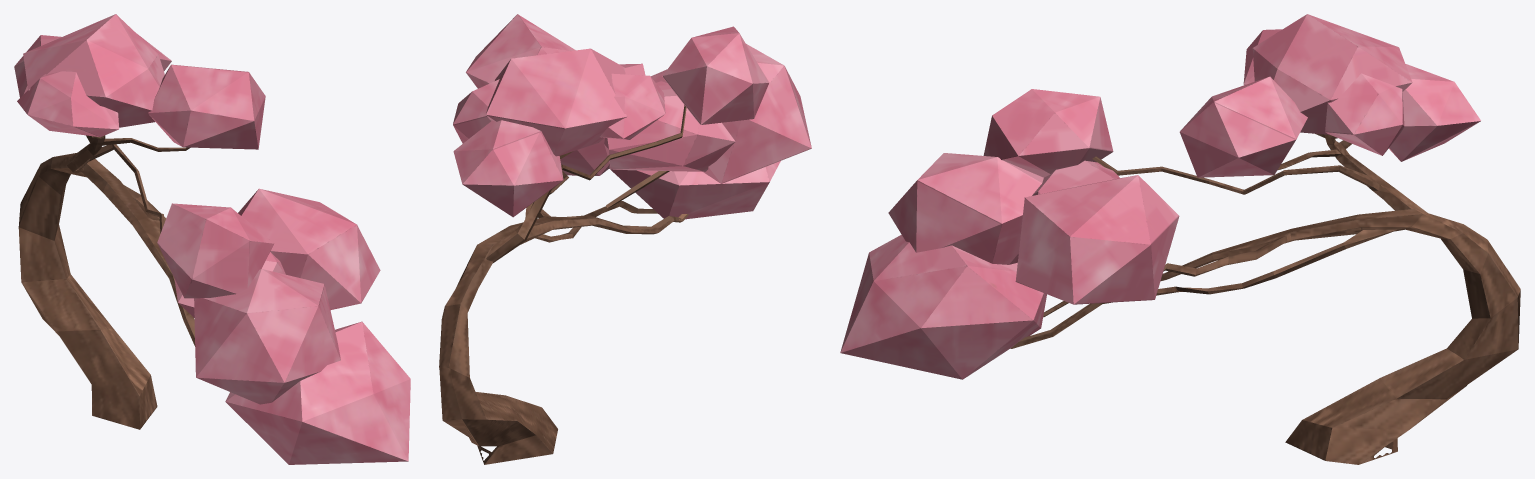
Rendered from tree_sakura_fbx.fbx.
3 views of the same model, side by side, from view 1: azimuth 30°, elevation 25°; view 2: azimuth 150°, elevation 25°; view 3: azimuth 270°, elevation 25° (orthographic). The views are drawn at different scales.
Visible parts, largest first — view 1: Bonsai_Tree_UPDATED_0001:pasted__pasted__pasted__pPlatonic1; view 2: Bonsai_Tree_UPDATED_0001:pasted__pasted__pasted__pPlatonic1; view 3: Bonsai_Tree_UPDATED_0001:pasted__pasted__pasted__pPlatonic1.
Part boxes in pixels (<box>): Bonsai_Tree_UPDATED_0001:pasted__pasted__pasted__pPlatonic1: <box>14,14,410,464</box>; Bonsai_Tree_UPDATED_0001:pasted__pasted__pasted__pPlatonic1: <box>439,14,811,464</box>; Bonsai_Tree_UPDATED_0001:pasted__pasted__pasted__pPlatonic1: <box>840,14,1520,464</box>.
Bounding box in the file's own units: 646 × 979 × 1484.
1 material, 1 textured.
